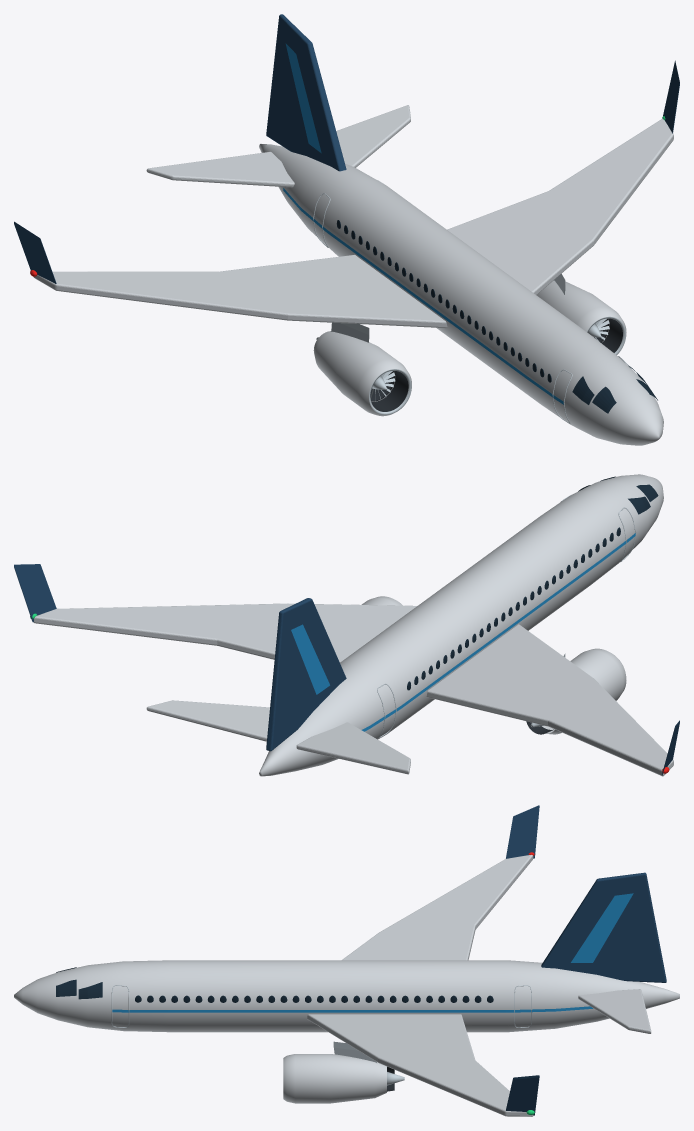
Rendered from aeropredict-airliner.glb.
The picture shows the model from 3 angles, top to bottom: view 1: azimuth 30°, elevation 25°; view 2: azimuth 150°, elevation 25°; view 3: azimuth 270°, elevation 25°; orthographic projection. The views are drawn at different scales.
Parts seen in each view (by area): view 1: Aircraft Pearl white airframe.001, Aircraft Midnight blue livery.001, Aircraft Polished aluminium.001, Aircraft Blue livery stripe.001, Aircraft Cockpit and cabin glazing.001, Aircraft Engine interior.001; view 2: Aircraft Pearl white airframe.001, Aircraft Midnight blue livery.001, Aircraft Blue livery stripe.001, Aircraft Cockpit and cabin glazing.001; view 3: Aircraft Pearl white airframe.001, Aircraft Midnight blue livery.001, Aircraft Blue livery stripe.001, Aircraft Cockpit and cabin glazing.001, Aircraft Polished aluminium.001.
Part boxes in pixels (box(x1,y1,x2,y2)): Aircraft Pearl white airframe.001: box(33, 105, 673, 445); Aircraft Midnight blue livery.001: box(14, 14, 679, 283); Aircraft Polished aluminium.001: box(313, 180, 631, 423); Aircraft Blue livery stripe.001: box(283, 43, 563, 404); Aircraft Cockpit and cabin glazing.001: box(336, 220, 657, 413); Aircraft Engine interior.001: box(370, 318, 622, 411); Aircraft Pearl white airframe.001: box(33, 474, 673, 776); Aircraft Midnight blue livery.001: box(14, 564, 679, 775); Aircraft Blue livery stripe.001: box(291, 533, 635, 731); Aircraft Cockpit and cabin glazing.001: box(407, 476, 658, 690); Aircraft Pearl white airframe.001: box(14, 855, 679, 1116); Aircraft Midnight blue livery.001: box(506, 805, 666, 1115); Aircraft Blue livery stripe.001: box(112, 893, 633, 1012); Aircraft Cockpit and cabin glazing.001: box(56, 967, 493, 1002); Aircraft Polished aluminium.001: box(111, 985, 531, 1085).
Bounding box in the file's own units: 10.8 × 3.44 × 11.25.
